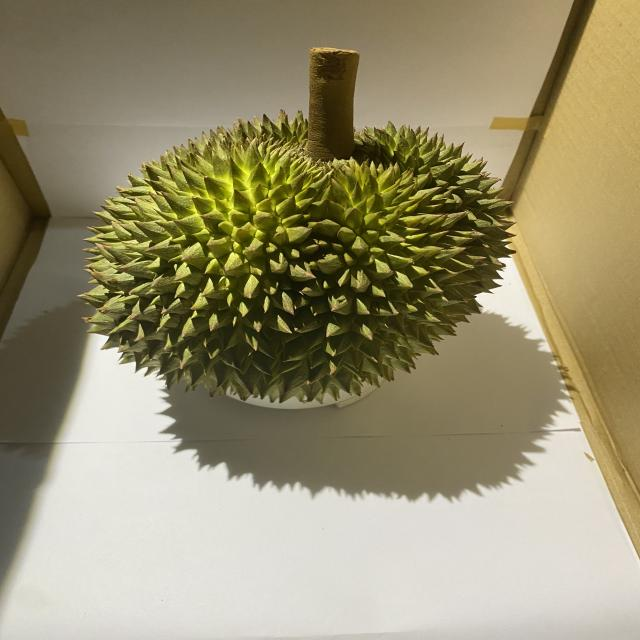immature: (76, 107, 522, 408)
